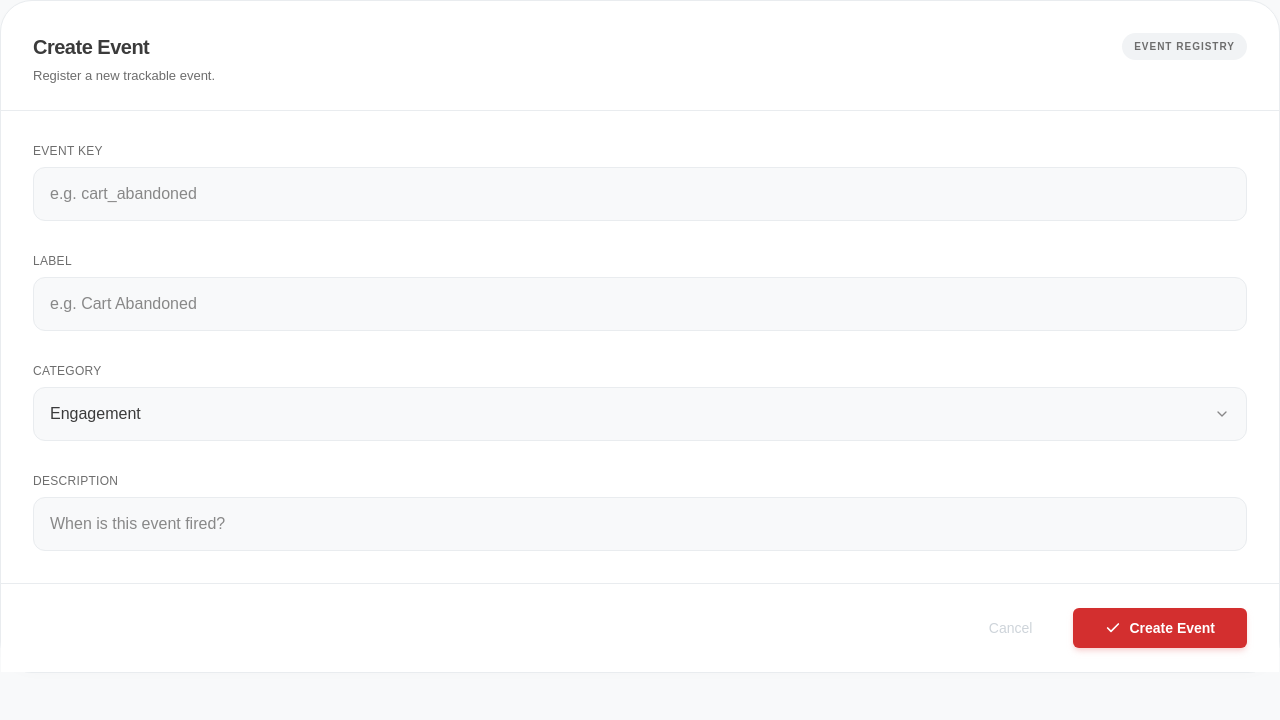
Test: EventRegistryCreatePage › displays validation errors from API
Click the button "Create Event": point(1160, 628) 1073,608 -> 1247,648
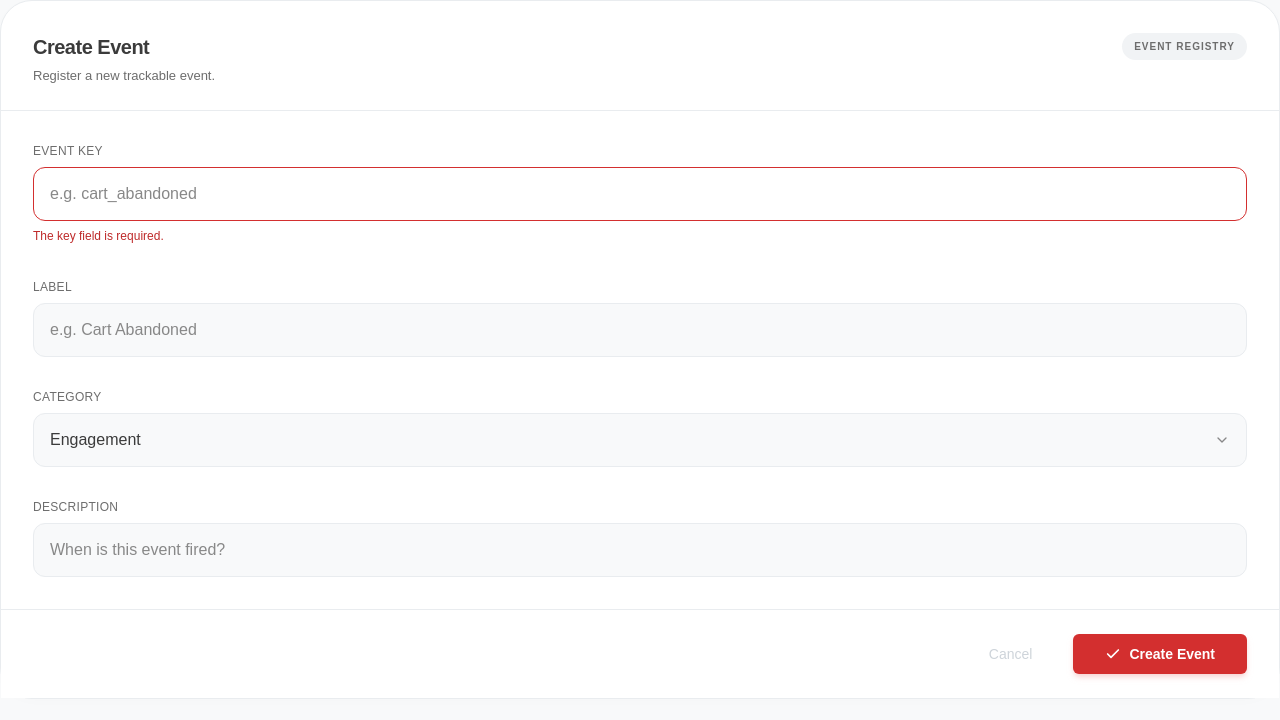
Now the text "The key field is required." is shown, box 33,229 -> 164,243
